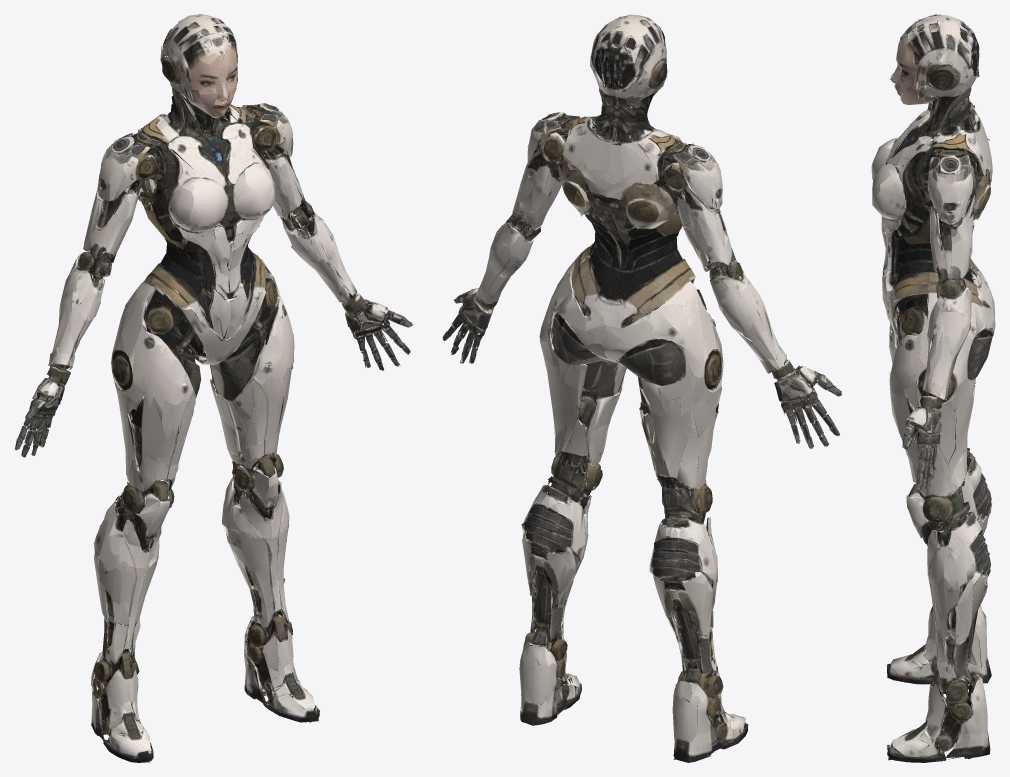
Rendered from nx-iris.glb.
The picture shows the model from 3 angles, left to right: view 1: azimuth 30°, elevation 25°; view 2: azimuth 150°, elevation 25°; view 3: azimuth 270°, elevation 25°; orthographic projection.
Parts seen in each view (by area): view 1: Mesh_0; view 2: Mesh_0; view 3: Mesh_0.
Part boxes in pixels (x1,y1,x2,y2): Mesh_0: (14,14,413,762); Mesh_0: (442,14,841,762); Mesh_0: (871,14,995,762).
Bounding box in the file's own units: 1.12 × 1.9 × 0.306.
Materials: 1 (1 with a texture image).
